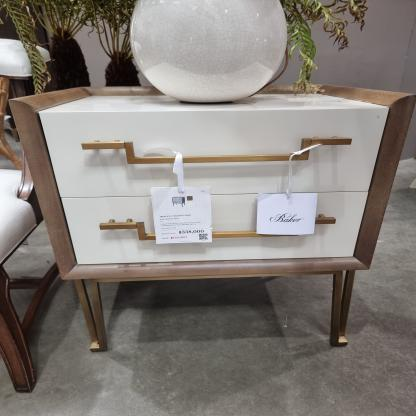Nightstand: (6, 69, 416, 357)
